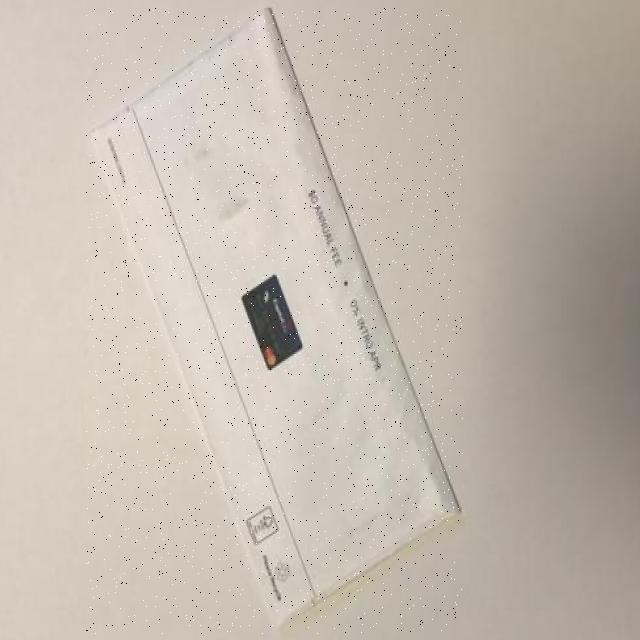paper: (86, 8, 463, 634)
